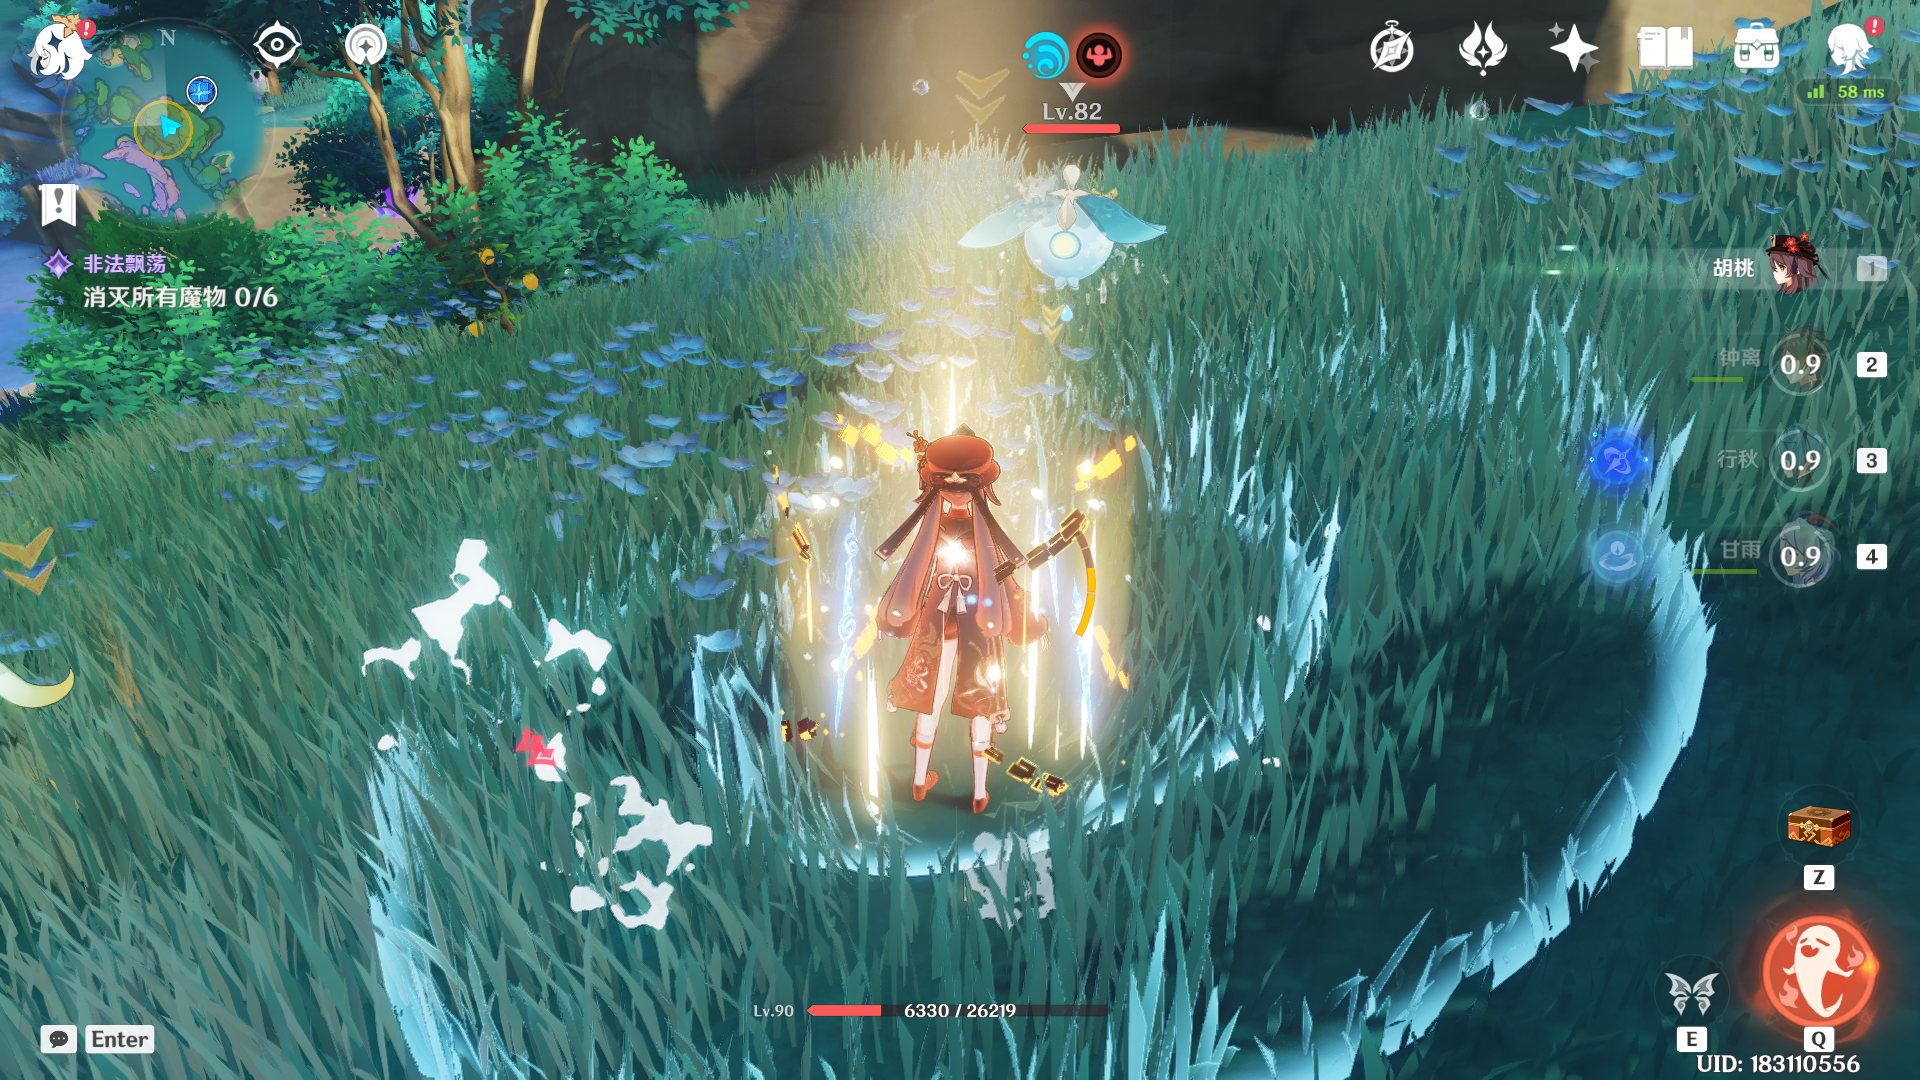character: (804, 431, 1130, 856)
